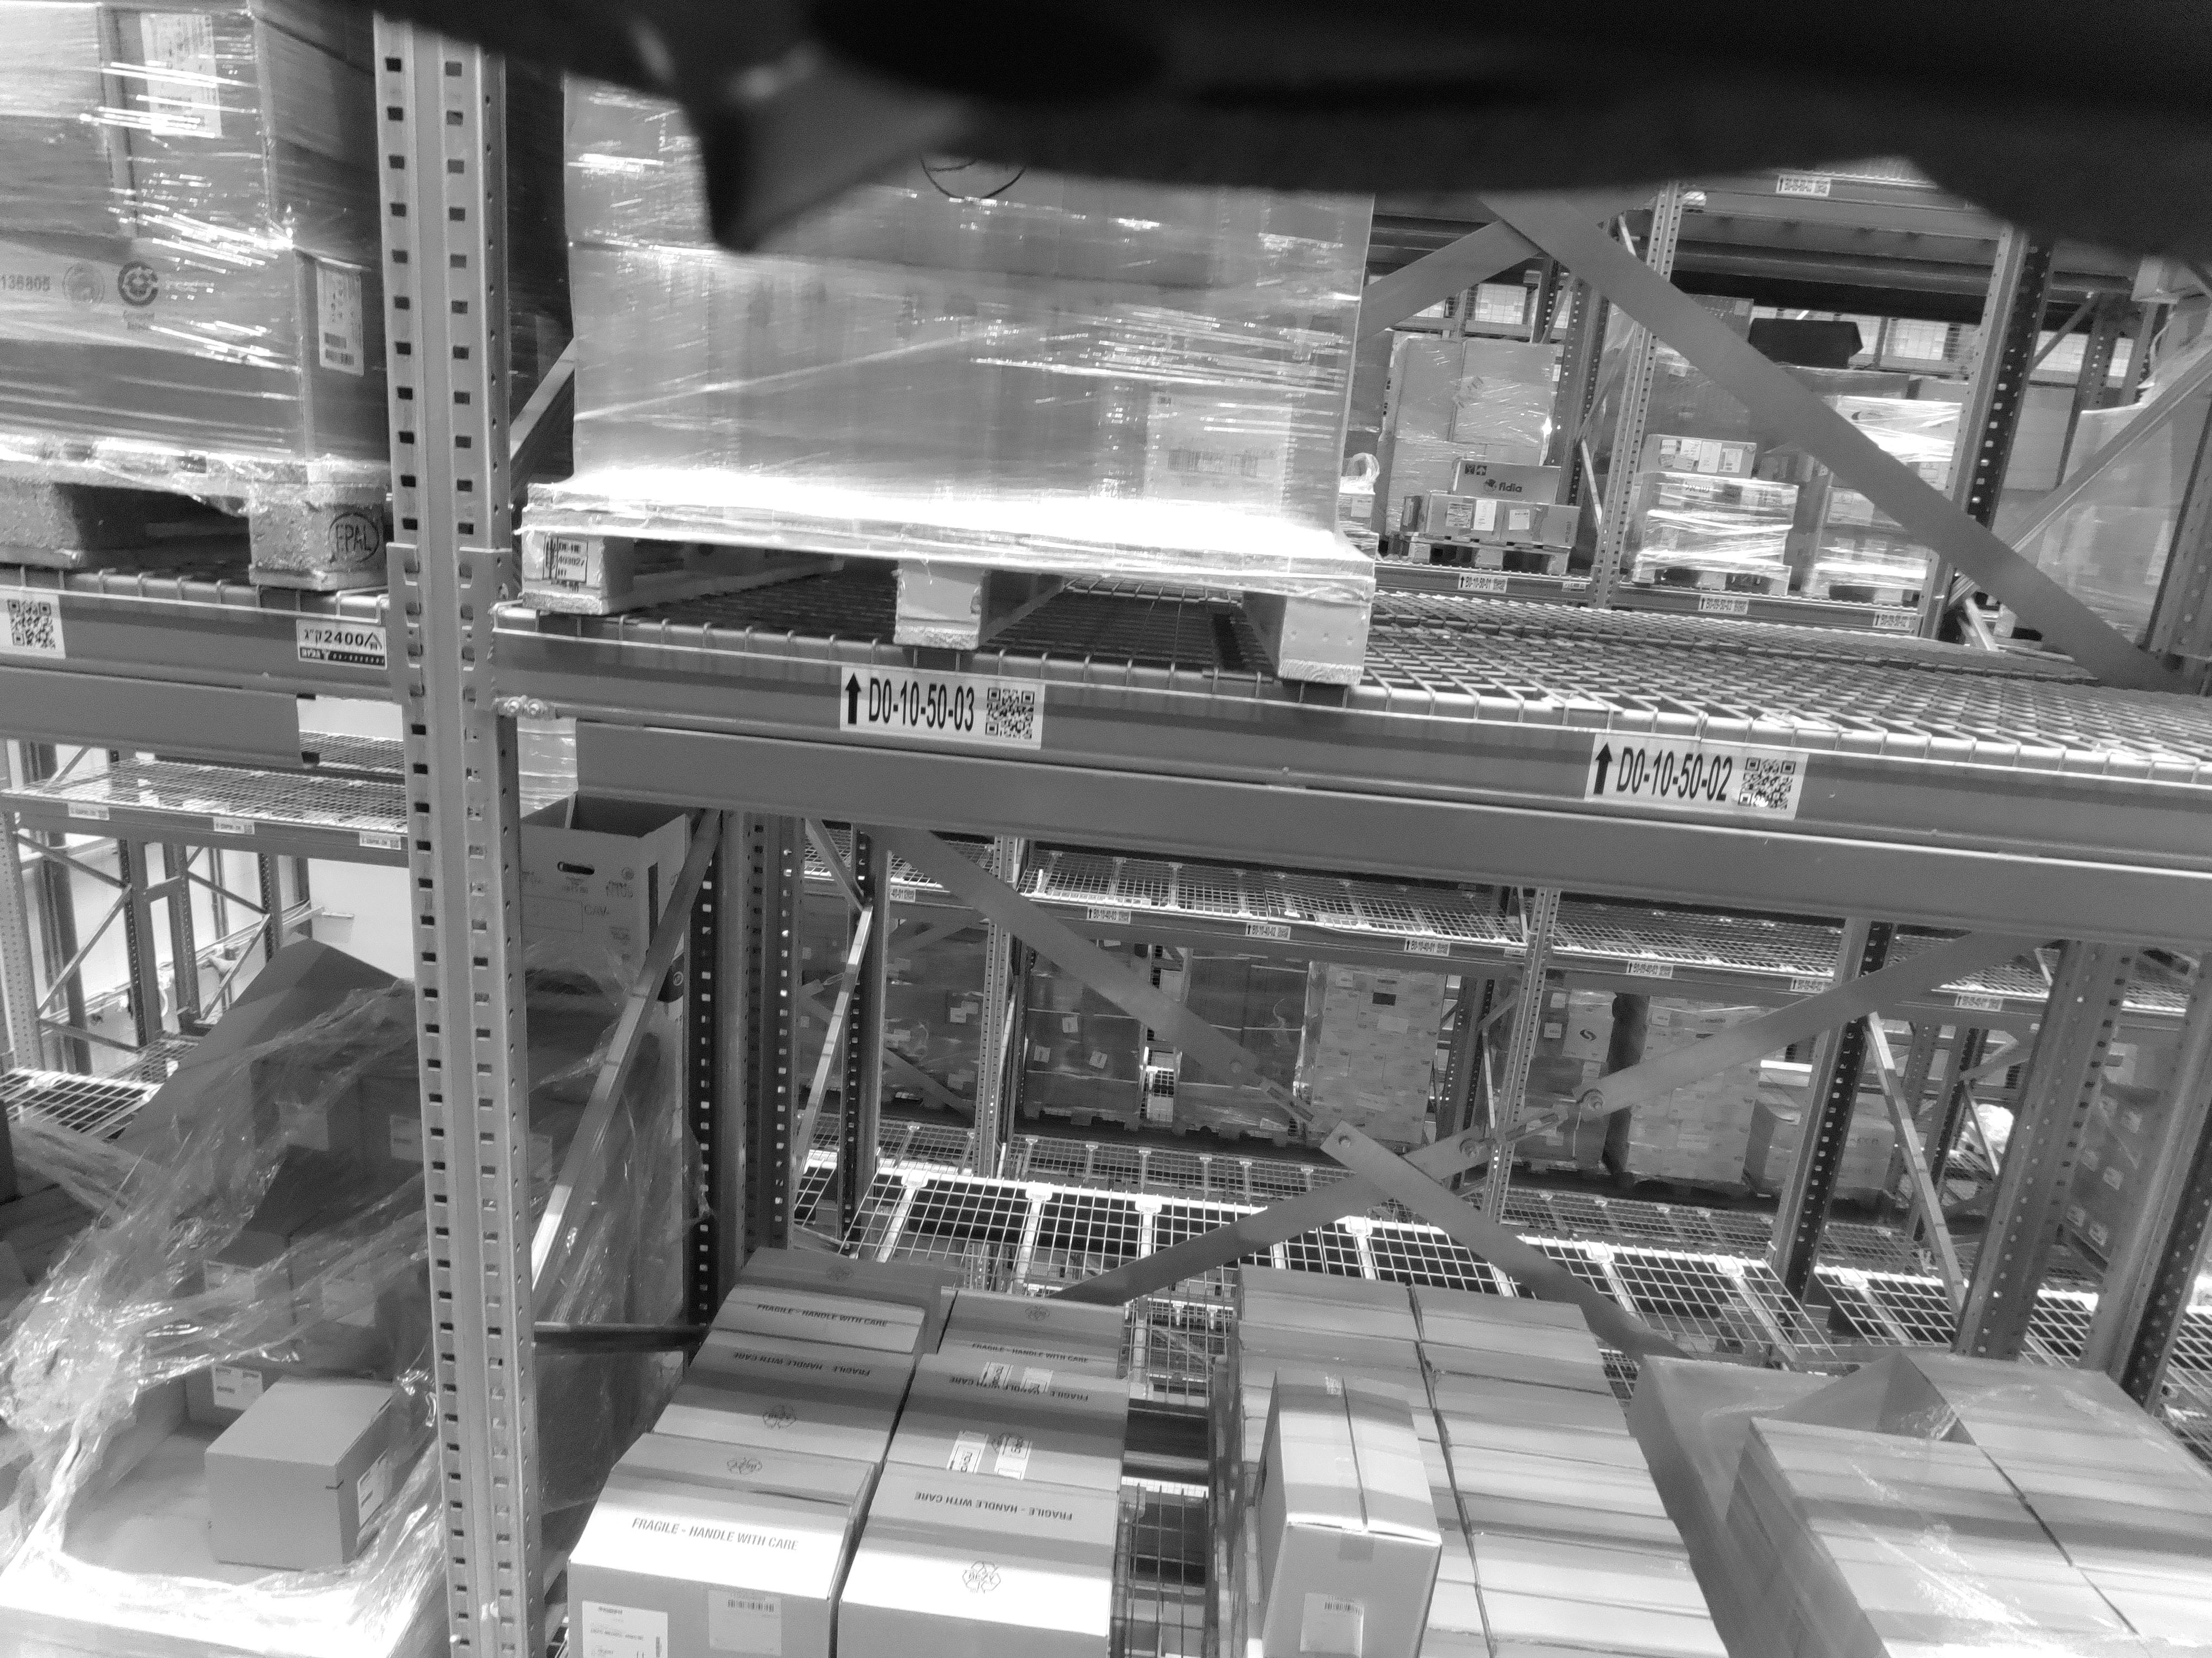empty-shelf: (1489, 211, 2212, 693)
